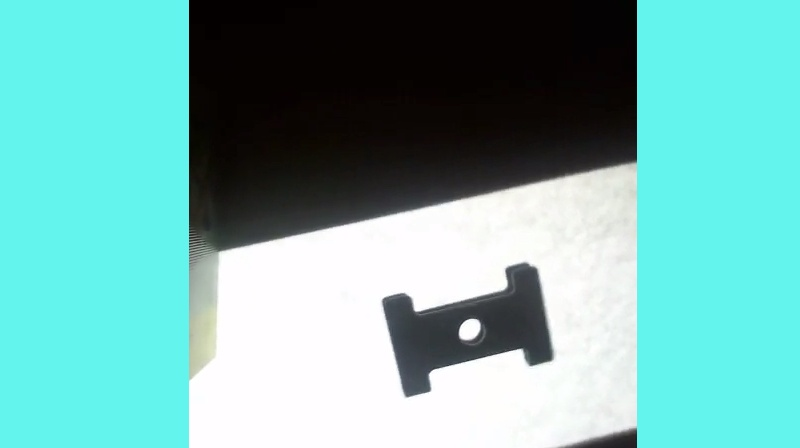O002: (377, 260, 554, 401)
